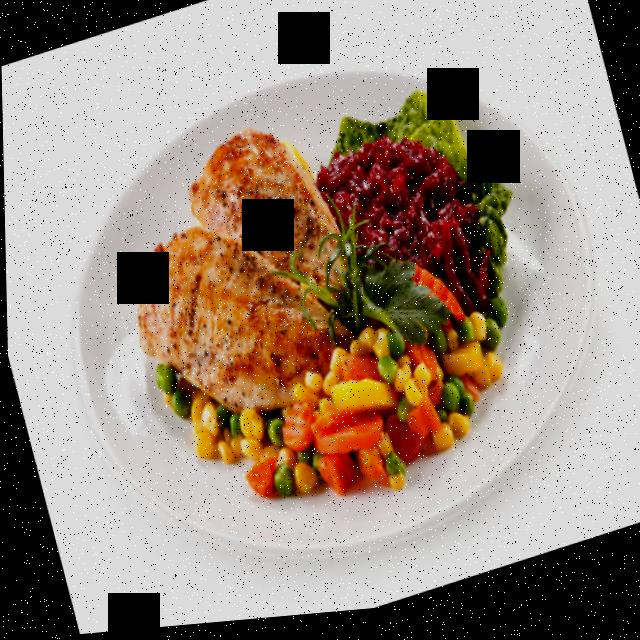Frango: (94, 105, 385, 459)
